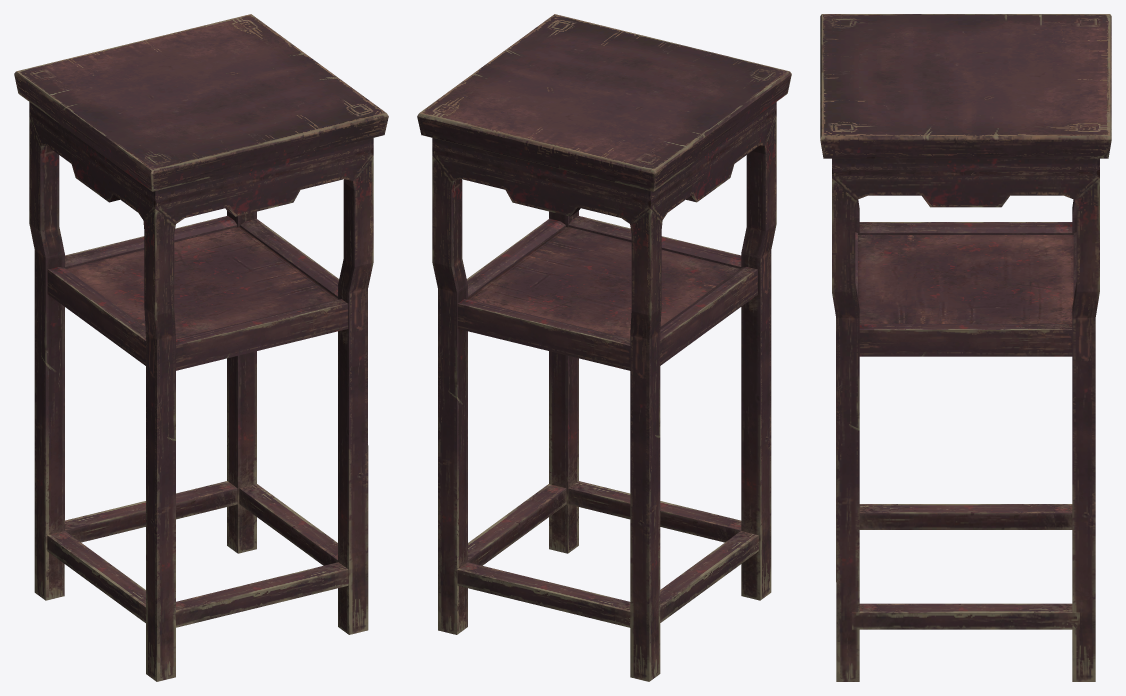
File: RedShelf.fbx
3 views of the same model, side by side, from view 1: azimuth 30°, elevation 25°; view 2: azimuth 150°, elevation 25°; view 3: azimuth 270°, elevation 25° (orthographic). The views are drawn at different scales.
Visible parts, largest first — view 1: 3D_RedJiaZi.mo; view 2: 3D_RedJiaZi.mo; view 3: 3D_RedJiaZi.mo.
Part boxes in pixels (box(x1,y1,x2,y2)): 3D_RedJiaZi.mo: box(14, 14, 388, 681); 3D_RedJiaZi.mo: box(417, 14, 791, 681); 3D_RedJiaZi.mo: box(820, 14, 1111, 681).
Size of the model in its own units: 22.98 by 47.97 by 22.96.
1 material, 1 textured.
